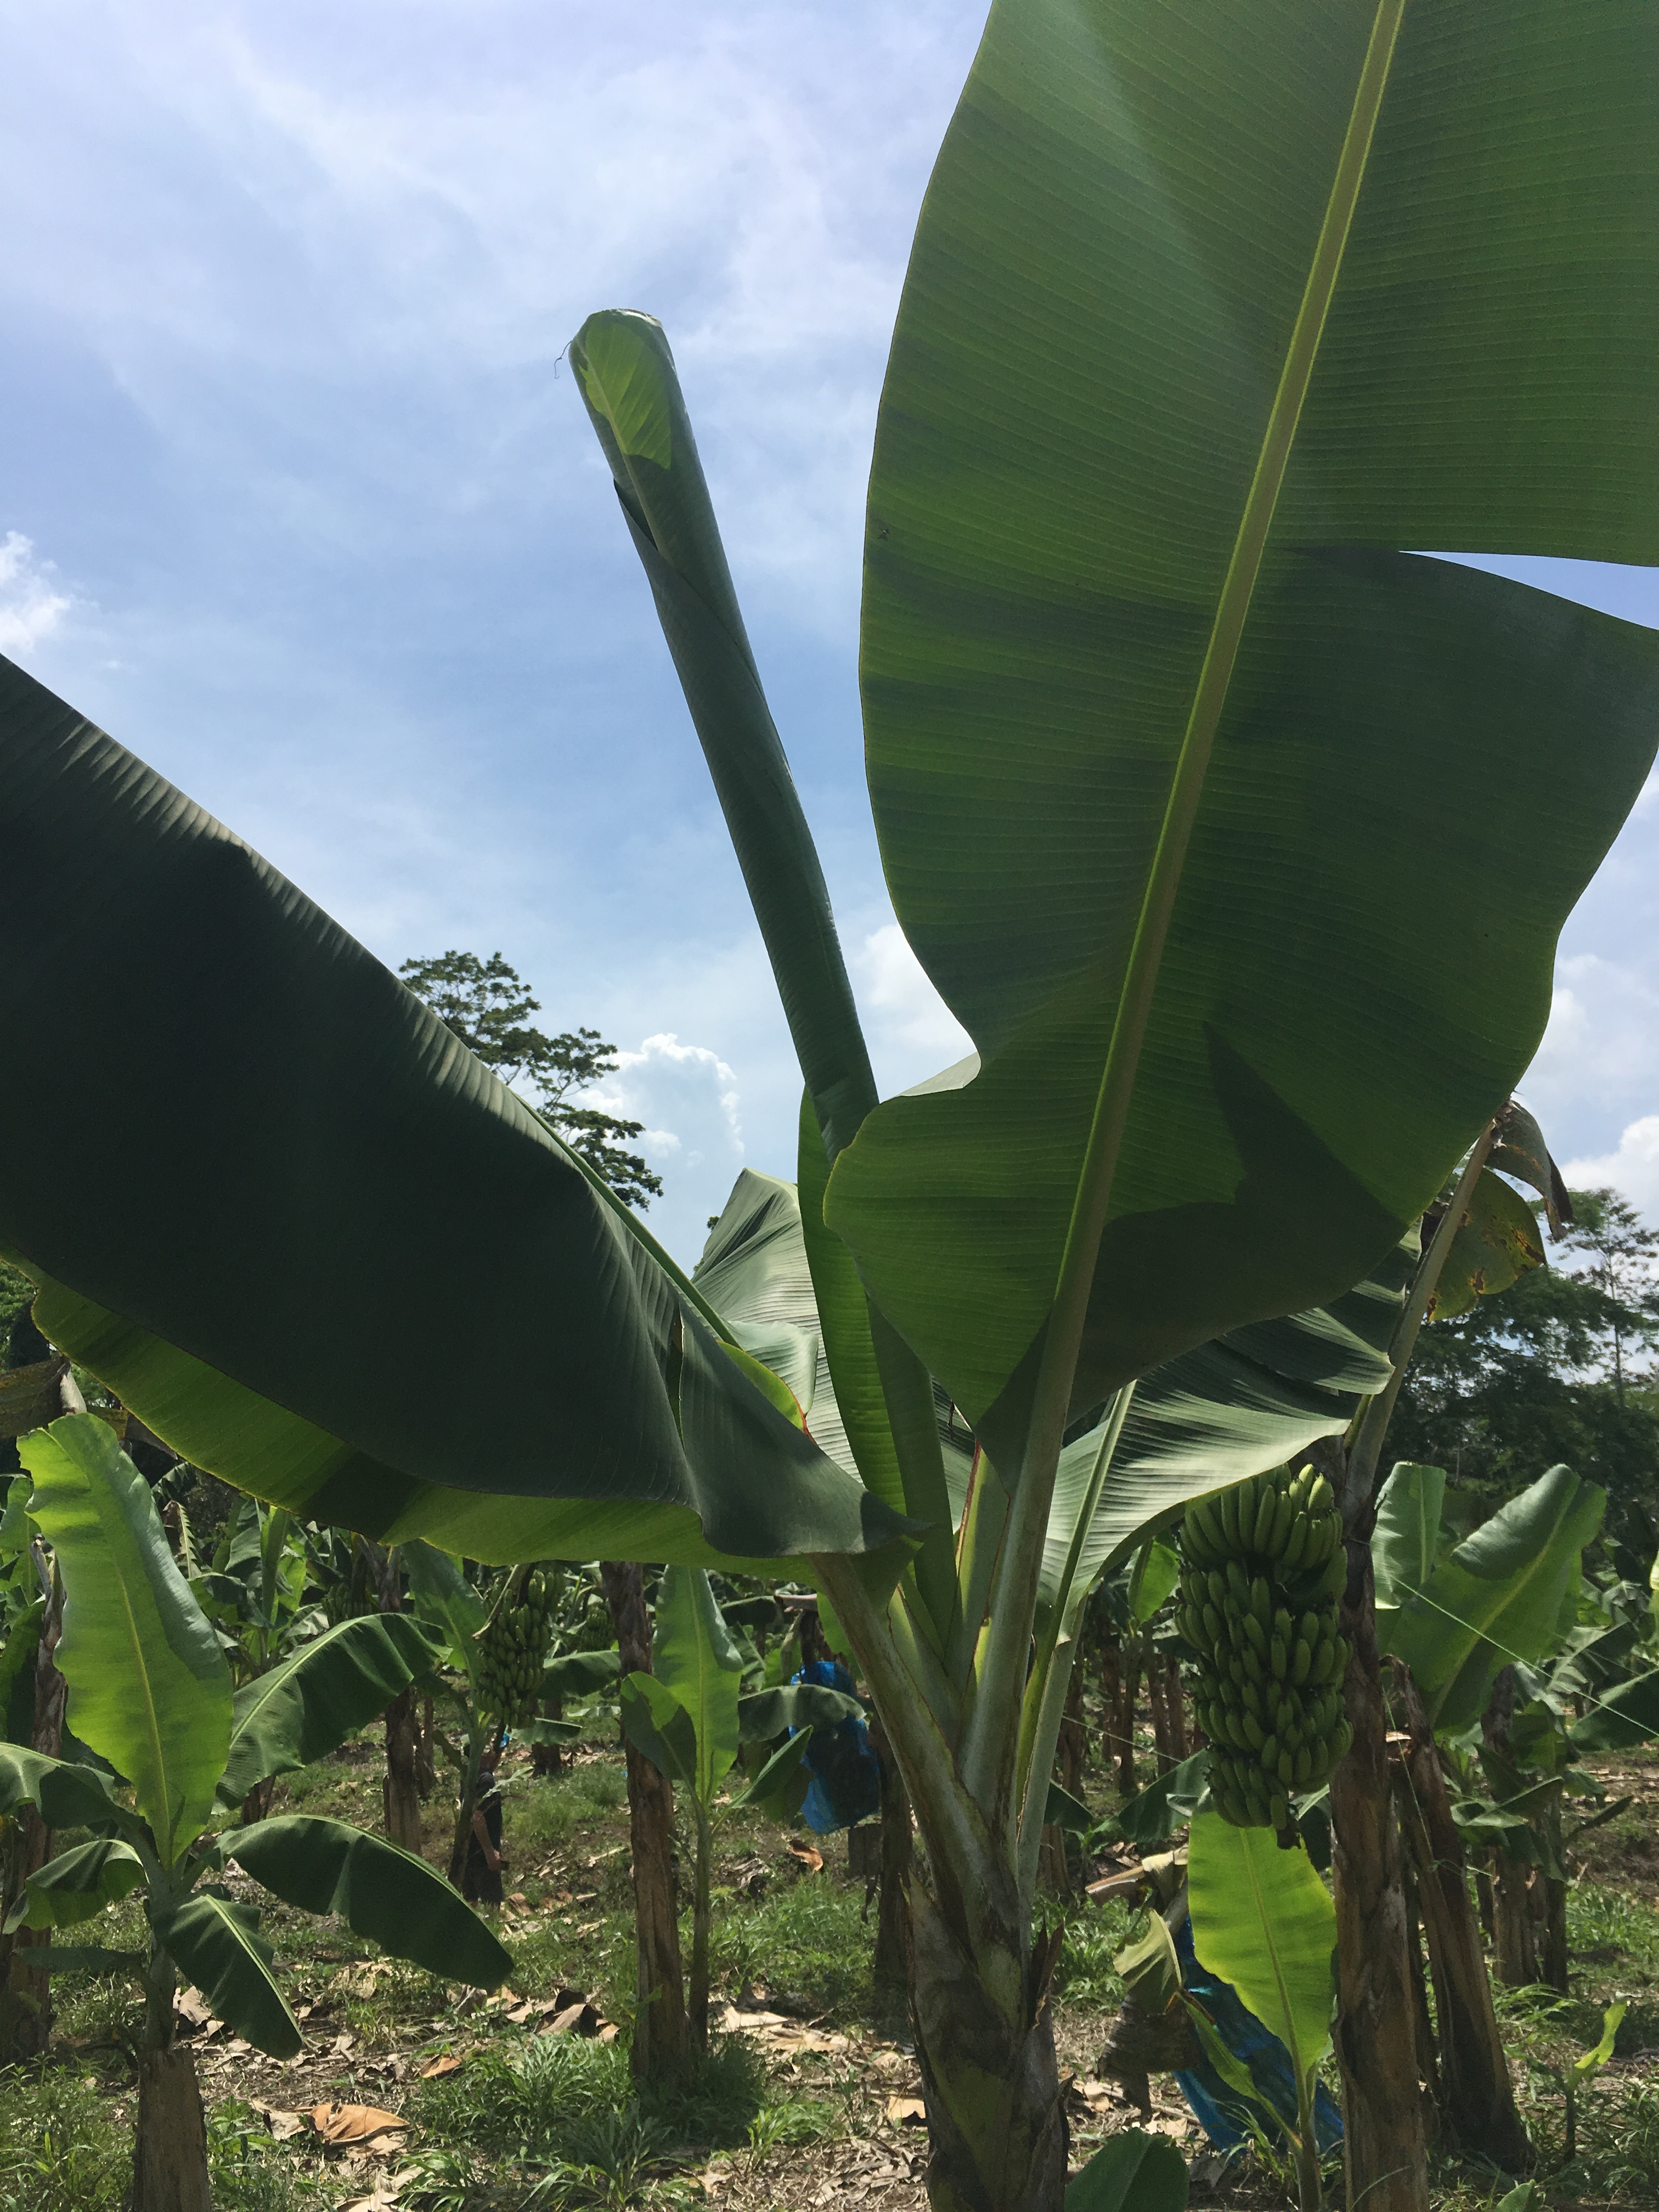candleleafs: (563, 301, 875, 1090)
